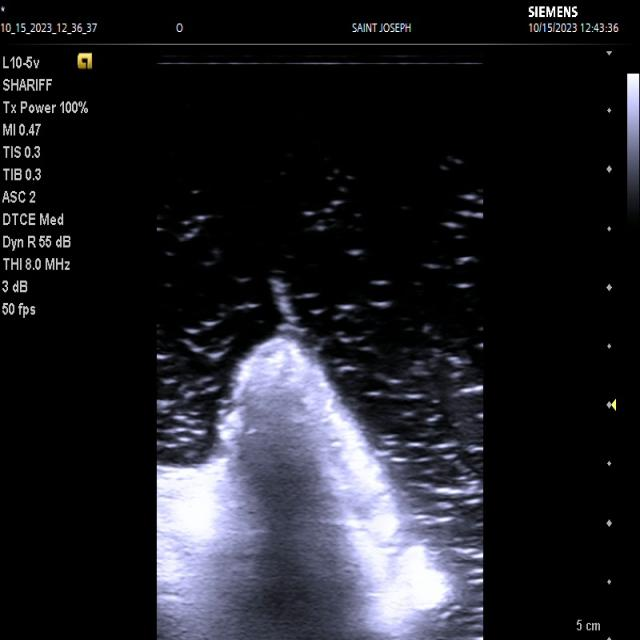tissue: (157, 337, 446, 640)
